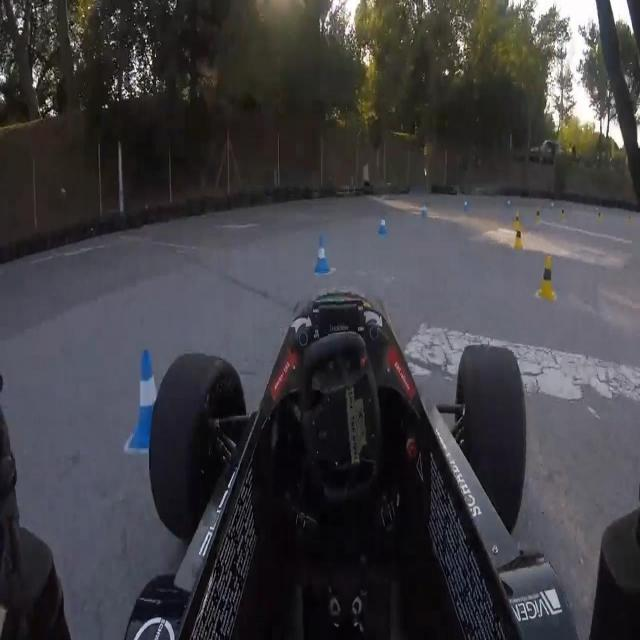blue_cone: (126, 348, 170, 457), (314, 224, 336, 286), (373, 210, 391, 242)
yellow_cone: (532, 252, 561, 312), (510, 206, 528, 260)
